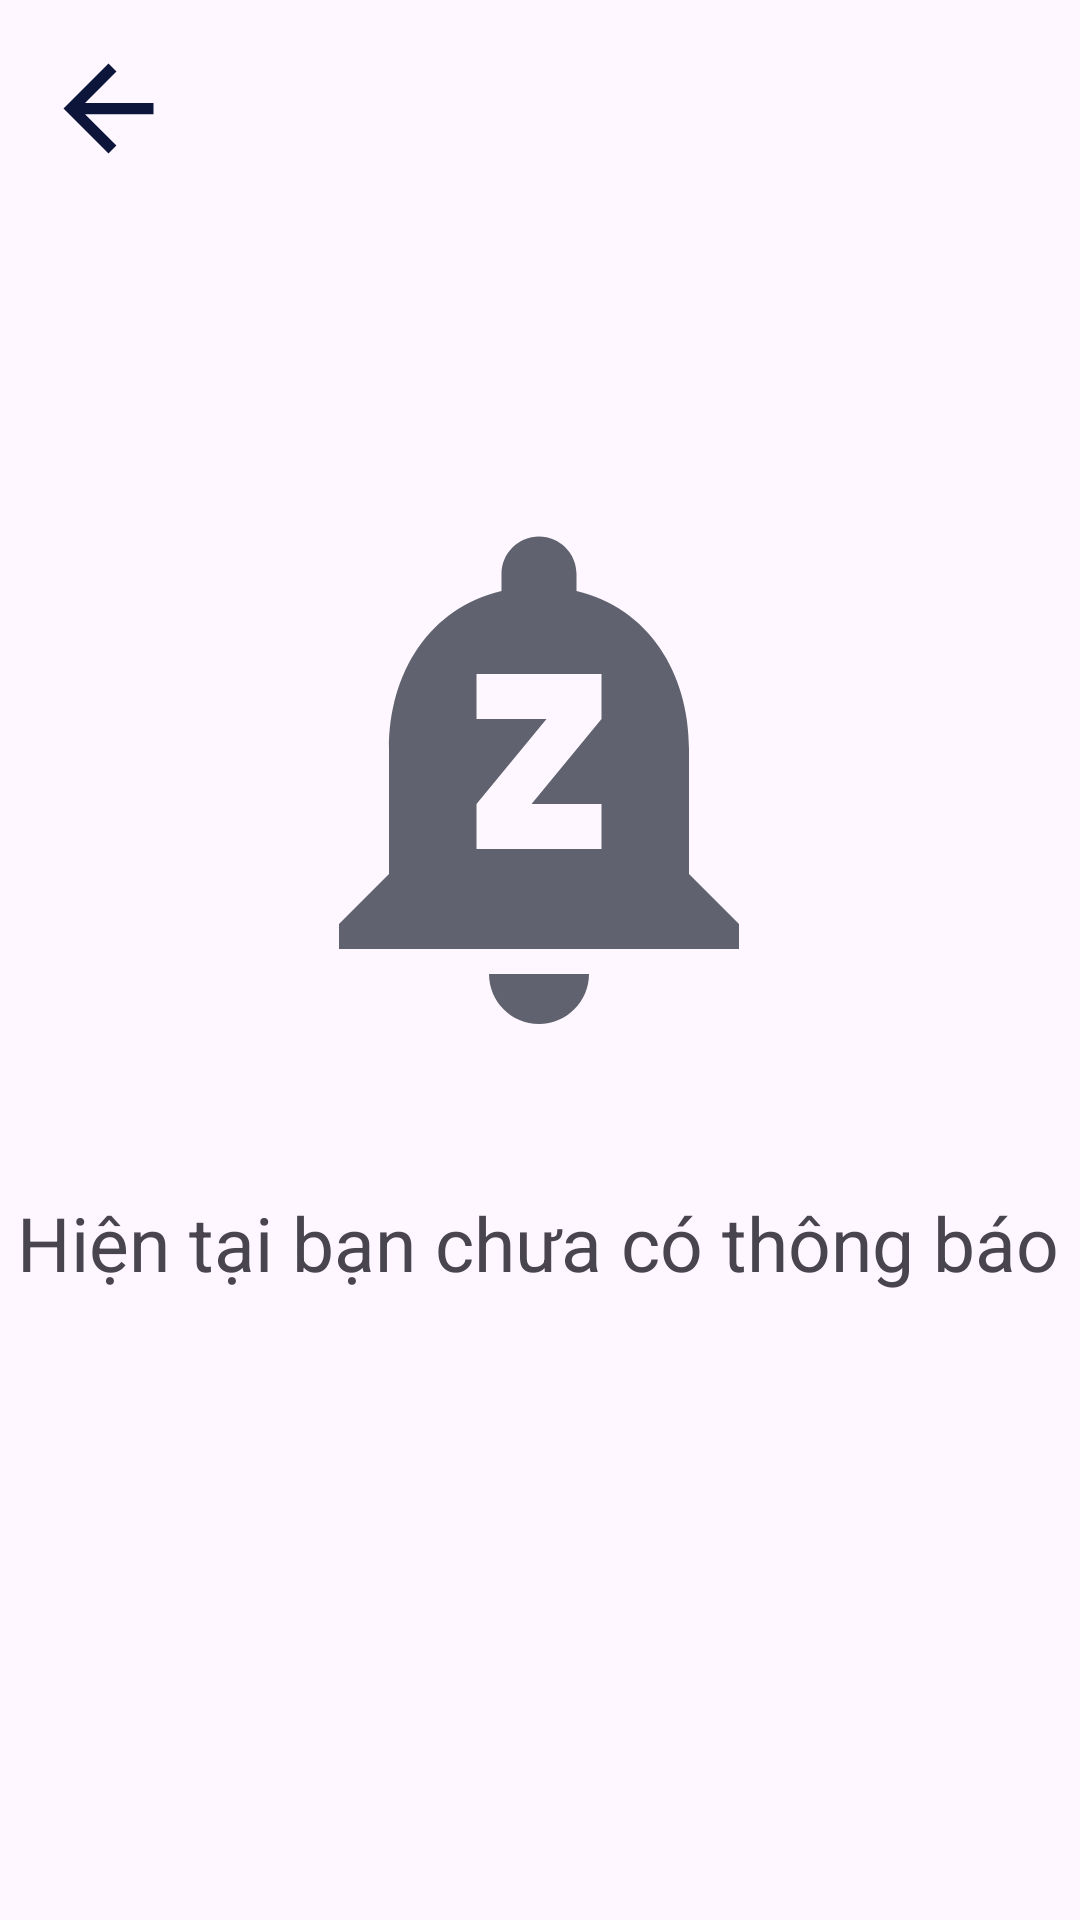

Point at icon controls on the screen. Image size 1080×1920, points as (x=x, y=y).
previou: (x=108, y=108)
